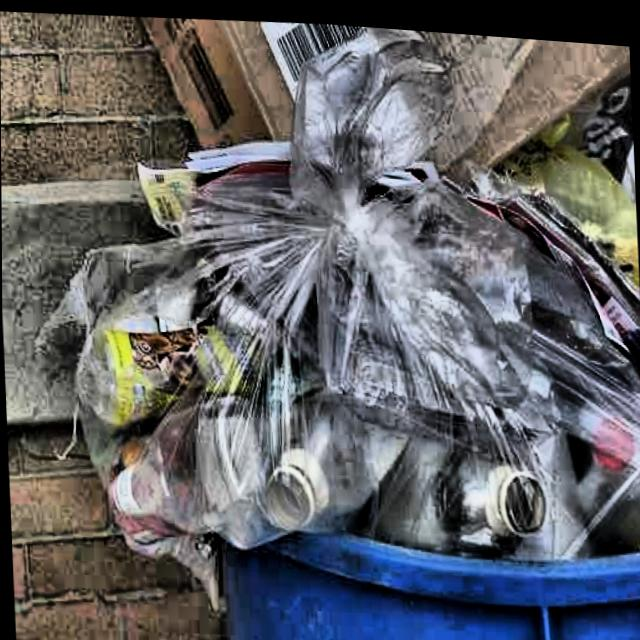Plastic: (39, 6, 640, 605)
